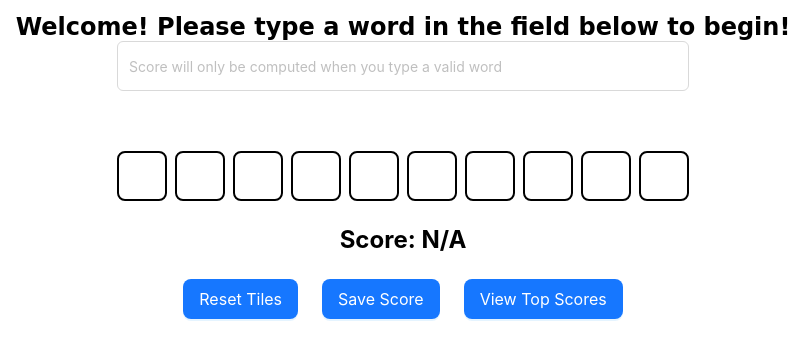
Test: button behaviours › reset tiles resets the score and value and error text
This screenshot has width=805, height=338.
Type "ambivalent" into the field with test id "input-field".
click(403, 66); type("ambivalent")  # box [117,41,689,91]
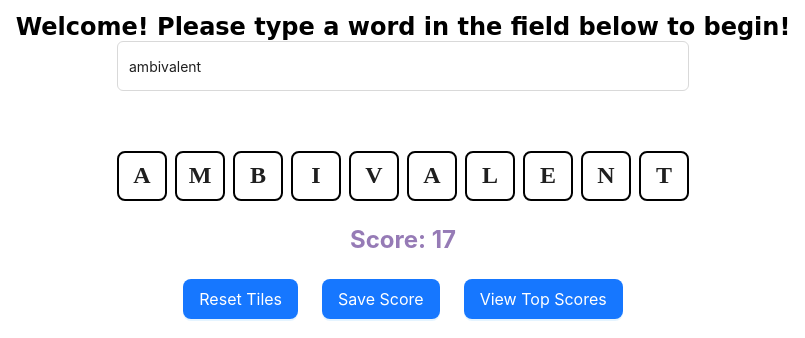
Now the element with test id "score" shows "17", box [432,225,456,254]
Click the button with test id "reset-tiles-btn".
click(241, 299)  # box [183,279,298,319]
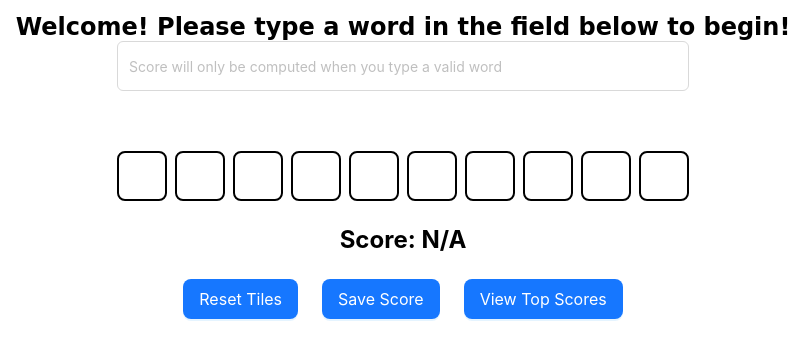
Now the field with test id "input-field" is empty, box [117,41,689,91]
Now the element with test id "score" shows "N/A", box [421,225,466,254]
